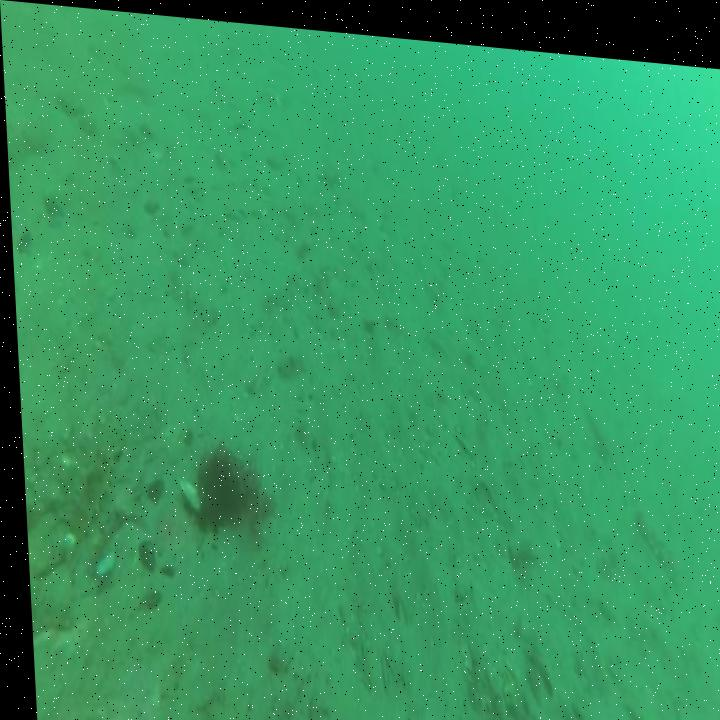echinus: (185, 439, 252, 537)
holothurian: (55, 440, 118, 550), (76, 486, 139, 581), (628, 494, 675, 574)
